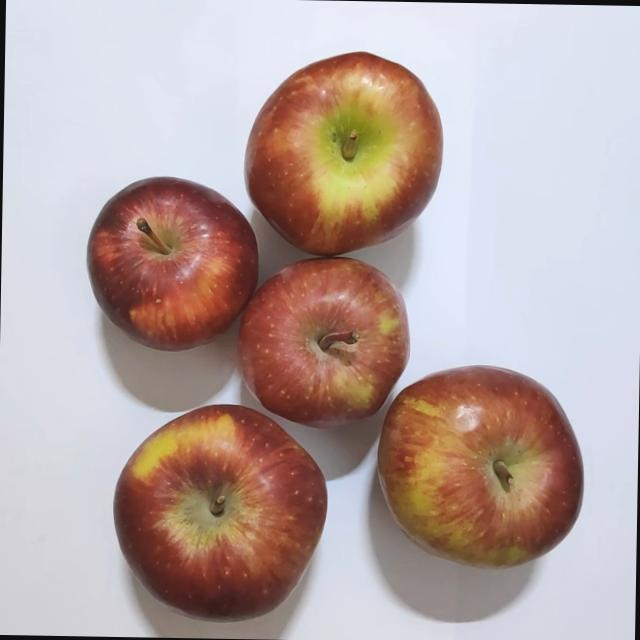apple: (119, 406, 341, 630), (242, 58, 456, 284), (373, 361, 584, 585), (81, 179, 272, 368), (232, 256, 420, 438)
